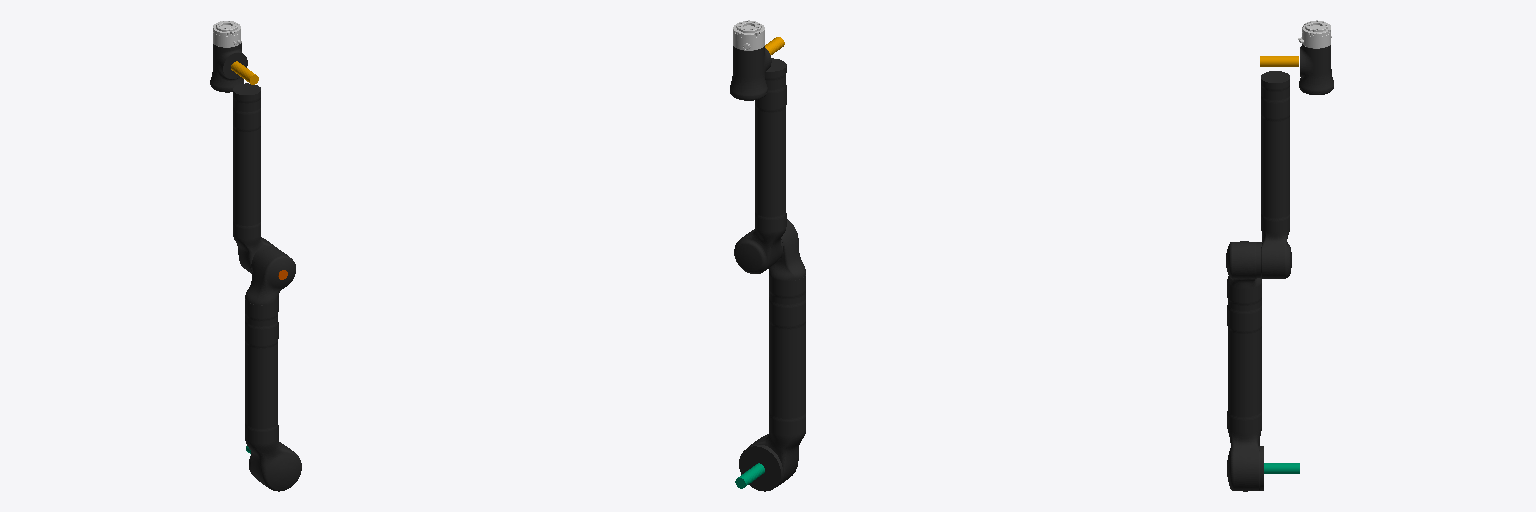
URDF robot description (kr2_robot_a1205):
<?xml version="1.0" ?>
<!-- =================================================================================== -->
<!-- |    This document was autogenerated by xacro from src/kr2_robot_S00V0003M1205.xacro | -->
<!-- |    EDITING THIS FILE BY HAND IS NOT RECOMMENDED                                 | -->
<!-- =================================================================================== -->
<robot features="TIO" mechanical-revision="0" model="a1205" model-revision="250731-0" name="kr2_robot_a1205">
  <ruid>0</ruid>
  <!-- links -->
  <link name="base">
    <visual>
      <origin rpy="0 0 0" xyz="0 0 0.035"/>
      <geometry>
        <mesh filename="package://ros2_description/meshes/a1205/a1205_BaseEdge.stl" scale="0.001 0.001 0.001"/>
      </geometry>
      <material name="">
        <color rgba="0.2 0.2 0.2 1"/>
      </material>
    </visual>
    <inertial>
      <origin rpy="0 0 0" xyz="0 0 0"/>
      <mass value="0.6"/>
      <inertia ixx="0.003" ixy="0.0" ixz="0.0" iyy="0.003" iyz="0.0" izz="0.003"/>
    </inertial>
  </link>
  <link name="link1">
    <visual>
      <origin rpy="0 0 0" xyz="0.05 0 0.3086"/>
      <geometry>
        <mesh filename="package://ros2_description/meshes/a1205/a1205_Link2.stl" scale="0.001 0.001 0.001"/>
      </geometry>
      <material name="">
        <color rgba="0.2 0.2 0.2 1"/>
      </material>
    </visual>
    <inertial>
      <origin rpy="0 0 0" xyz="0 0 0.15335"/>
      <mass value="6.0"/>
      <inertia ixx="0.003" ixy="0.0" ixz="0.0" iyy="0.003" iyz="0.0" izz="0.003"/>
    </inertial>
  </link>
  <link name="linkJ2">
    <visual>
      <origin rpy="1.5707963267948966 0 0" xyz="0 -0.01 0"/>
      <geometry>
        <cylinder length="0.15" radius="0.015"/>
      </geometry>
      <material name="orange"/>
    </visual>
    <collision>
      <origin rpy="1.5707963267948966 0 0" xyz="0 -0.01 0"/>
      <geometry>
        <cylinder length="0.15" radius="0.015"/>
      </geometry>
    </collision>
    <inertial>
      <origin rpy="0 0 0" xyz="0 0 0"/>
      <mass value="6.1"/>
      <inertia ixx="0.003" ixy="0.0" ixz="0.0" iyy="0.003" iyz="0.0" izz="0.003"/>
    </inertial>
  </link>
  <link name="link2">
    <visual>
      <origin rpy="0 0 0" xyz="0.05 -0.00 0.00"/>
      <geometry>
        <mesh filename="package://ros2_description/meshes/a1205/a1205_Link3.stl" scale="0.001 0.001 0.001"/>
      </geometry>
      <material name="">
        <color rgba="0.2 0.2 0.2 1"/>
      </material>
    </visual>
    <inertial>
      <origin rpy="0 0 0" xyz="0 0 0.17500000000000002"/>
      <mass value="0.69"/>
      <inertia ixx="0.003" ixy="0.0" ixz="0.0" iyy="0.003" iyz="0.0" izz="0.003"/>
    </inertial>
  </link>
  <link name="link3">
    <visual>
      <origin rpy="0 0 0" xyz="0.041 0  0.3429"/>
      <geometry>
        <mesh filename="package://ros2_description/meshes/a1205/a1205_Link4.stl" scale="0.001 0.001 0.001"/>
      </geometry>
      <material name="">
        <color rgba="0.2 0.2 0.2 1"/>
      </material>
    </visual>
    <inertial>
      <origin rpy="0 0 0" xyz="0 0 0"/>
      <mass value="2.9"/>
      <inertia ixx="0.003" ixy="0.0" ixz="0.0" iyy="0.003" iyz="0.0" izz="0.003"/>
    </inertial>
  </link>
  <link name="linkJ4">
    <visual>
      <origin rpy="1.5707963267948966 0 0" xyz="0 0.013000000000000001 0"/>
      <geometry>
        <cylinder length="0.129" radius="0.015"/>
      </geometry>
      <material name="orange"/>
    </visual>
    <collision>
      <origin rpy="1.5707963267948966 0 0" xyz="0 0.013000000000000001 0"/>
      <geometry>
        <cylinder length="0.129" radius="0.015"/>
      </geometry>
    </collision>
    <inertial>
      <origin rpy="0 0 0" xyz="0 0.006500000000000001 0"/>
      <mass value="3.8"/>
      <inertia ixx="0.003" ixy="0.0" ixz="0.0" iyy="0.003" iyz="0.0" izz="0.003"/>
    </inertial>
  </link>
  <link name="link4">
    <visual>
      <origin rpy="0 0 0" xyz="0.041 0.0 0"/>
      <geometry>
        <mesh filename="package://ros2_description/meshes/a1205/a1205_Link5.stl" scale="0.001 0.001 0.001"/>
      </geometry>
      <material name="">
        <color rgba="0.2 0.2 0.2 1"/>
      </material>
    </visual>
    <inertial>
      <origin rpy="0 0 0" xyz="0 0 0.168"/>
      <mass value="0.46"/>
      <inertia ixx="0.003" ixy="0.0" ixz="0.0" iyy="0.003" iyz="0.0" izz="0.003"/>
    </inertial>
  </link>
  <link name="link5">
    <visual>
      <origin rpy="0 0 0" xyz="0.001 0.002 0.3035"/>
      <geometry>
        <mesh filename="package://ros2_description/meshes/a1205/a1205_Link6.stl" scale="0.001 0.001 0.001"/>
      </geometry>
      <material name="">
        <color rgba="0.2 0.2 0.2 1"/>
      </material>
    </visual>
    <inertial>
      <origin rpy="0 0 0" xyz="0 0 0"/>
      <mass value="1.7"/>
      <inertia ixx="0.003" ixy="0.0" ixz="0.0" iyy="0.003" iyz="0.0" izz="0.003"/>
    </inertial>
  </link>
  <link name="linkJ6">
    <visual>
      <origin rpy="1.5707963267948966 0 0" xyz="0 0.01 0"/>
      <geometry>
        <cylinder length="0.105" radius="0.015"/>
      </geometry>
      <material name="orange"/>
    </visual>
    <collision>
      <origin rpy="1.5707963267948966 0 0" xyz="0 0.01 0"/>
      <geometry>
        <cylinder length="0.105" radius="0.015"/>
      </geometry>
    </collision>
    <inertial>
      <origin rpy="0 0 0" xyz="0 0.004 0"/>
      <mass value="1.8"/>
      <inertia ixx="0.003" ixy="0.0" ixz="0.0" iyy="0.003" iyz="0.0" izz="0.003"/>
    </inertial>
  </link>
  <link name="link6">
    <visual>
      <origin rpy="0 0 0" xyz="0.001 0.00 0.002"/>
      <geometry>
        <mesh filename="package://ros2_description/meshes/a1205/a1205_Link7.stl" scale="0.001 0.001 0.001"/>
      </geometry>
      <material name="">
        <color rgba="0.2 0.2 0.2 1"/>
      </material>
    </visual>
    <inertial>
      <origin rpy="0 0 0" xyz="0 0 0.004"/>
      <mass value="1.8"/>
      <inertia ixx="0.003" ixy="0.0" ixz="0.0" iyy="0.003" iyz="0.0" izz="0.003"/>
    </inertial>
  </link>
  <link name="end_effector">
    <visual>
      <origin rpy="0 0 0" xyz="0.00 0 -0.105"/>
      <geometry>
        <mesh filename="package://ros2_description/meshes/a1205/a1205_ToolIO.stl" scale="0.001 0.001 0.001"/>
      </geometry>
      <material name="">
        <color rgba="0.8 0.8 0.8 1"/>
      </material>
    </visual>
    <inertial>
      <origin rpy="0 0 0" xyz="0 0 -0.0197"/>
      <mass value="0.56"/>
      <inertia ixx="0.003" ixy="0.0" ixz="0.0" iyy="0.003" iyz="0.0" izz="0.003"/>
    </inertial>
  </link>
  <!-- joints -->
  <joint name="joint0" type="continuous">
    <parent link="base"/>
    <child link="link1"/>
    <origin rpy="0.0 -0.0 0.0" xyz="0 0 0.035"/>
    <axis xyz="0 0 1"/>
    <dynamics damping="0.0"/>
    <limit effort="204" lower="-6.283185307179586" upper="6.283185307179586" velocity="3.9269908169872414"/>
  </joint>
  <joint name="joint1" type="continuous">
    <parent link="link1"/>
    <child link="linkJ2"/>
    <origin rpy="0.0 0.0 0.0" xyz="0.05 0.0 0.3067"/>
    <axis xyz="0 1 0"/>
    <dynamics damping="0.0"/>
    <limit effort="204" lower="-1.2217304763960306" upper="3.141592653589793" velocity="3.9269908169872414"/>
  </joint>
  <joint name="jointPL2" type="fixed">
    <parent link="linkJ2"/>
    <child link="link2"/>
    <origin rpy="0.0 -0.0 0.0" xyz="-0.05 -0.0857 0"/>
  </joint>
  <joint name="joint2" type="continuous">
    <parent link="link2"/>
    <child link="link3"/>
    <origin rpy="0 0 0" xyz="0 0 0.274"/>
    <axis xyz="0 0 1"/>
    <dynamics damping="0.0"/>
    <limit effort="85" lower="-6.283185307179586" upper="6.283185307179586" velocity="3.9269908169872414"/>
  </joint>
  <joint name="joint3" type="continuous">
    <parent link="link3"/>
    <child link="linkJ4"/>
    <origin rpy="0.0 0.0 0.0" xyz="0.04 0.0 0.3429"/>
    <axis xyz="0 1 0"/>
    <dynamics damping="0.0"/>
    <limit effort="85" lower="-1.2217304763960306" upper="3.141592653589793" velocity="3.9269908169872414"/>
  </joint>
  <joint name="jointPL4" type="fixed">
    <parent link="linkJ4"/>
    <child link="link4"/>
    <origin rpy="0.0 -0.0 0.0" xyz="-0.04 0.08405 0.0"/>
  </joint>
  <joint name="joint4" type="continuous">
    <parent link="link4"/>
    <child link="link5"/>
    <origin rpy="0 0 0" xyz="0 0 0.271"/>
    <axis xyz="0 0 1"/>
    <dynamics damping="0.0"/>
    <limit effort="51" lower="-6.283185307179586" upper="6.283185307179586" velocity="3.9269908169872414"/>
  </joint>
  <joint name="joint5" type="continuous">
    <parent link="link5"/>
    <child link="linkJ6"/>
    <origin rpy="0.0 0.0 0.0" xyz="0.0 0 0.3035"/>
    <axis xyz="0 1 0"/>
    <dynamics damping="0.0"/>
    <limit effort="51" lower="-6.283185307179586" upper="6.283185307179586" velocity="3.9269908169872414"/>
  </joint>
  <joint name="jointPL6" type="fixed">
    <parent link="linkJ6"/>
    <child link="link6"/>
    <origin rpy="0.0 0.0 0.0" xyz="0.0 0.111 0"/>
  </joint>
  <joint name="joint6" type="continuous">
    <parent link="link6"/>
    <child link="end_effector"/>
    <origin rpy="0 0 0" xyz="0 0 0.108"/>
    <axis xyz="0 0 1"/>
    <dynamics damping="0.0"/>
    <limit effort="51" lower="-6.283185307179586" upper="6.283185307179586" velocity="3.9269908169872414"/>
  </joint>
</robot>

--- Facts derived from the render (not from the file) ---
Views: 3 orthographic renders of the robot side by side, from view 1: azimuth 30°, elevation 25°; view 2: azimuth 150°, elevation 25°; view 3: azimuth 270°, elevation 25°.
Robot: kr2_robot_a1205 — 11 links, 10 joints (7 continuous, 3 fixed); root link base; default pose: every joint at zero.
Links seen in each view (by area): view 1: link2, link4, link3, link6, end_effector; view 2: link2, link4, link6, link3, end_effector; view 3: link2, link4, link6, link3, end_effector.
Link boxes in pixels (x1,y1,x2,y2): link2: [245, 299, 301, 491]; link4: [233, 83, 276, 273]; link3: [245, 247, 295, 304]; link6: [210, 43, 247, 92]; end_effector: [213, 21, 241, 47]; link2: [739, 275, 805, 491]; link4: [734, 58, 786, 273]; link6: [730, 46, 771, 100]; link3: [769, 219, 805, 280]; end_effector: [733, 20, 764, 50]; link2: [1227, 284, 1263, 491]; link4: [1257, 71, 1291, 278]; link6: [1299, 44, 1333, 94]; link3: [1226, 241, 1261, 289]; end_effector: [1298, 20, 1331, 48].
Size in the robot's own frame: 0.1595 by 0.2946 by 1.36 metres.
Meshes: 8 distinct files referenced, 5 mesh visuals loaded (5 binary STL); not drawn: 3 (reference not matched to a file when rendering).
